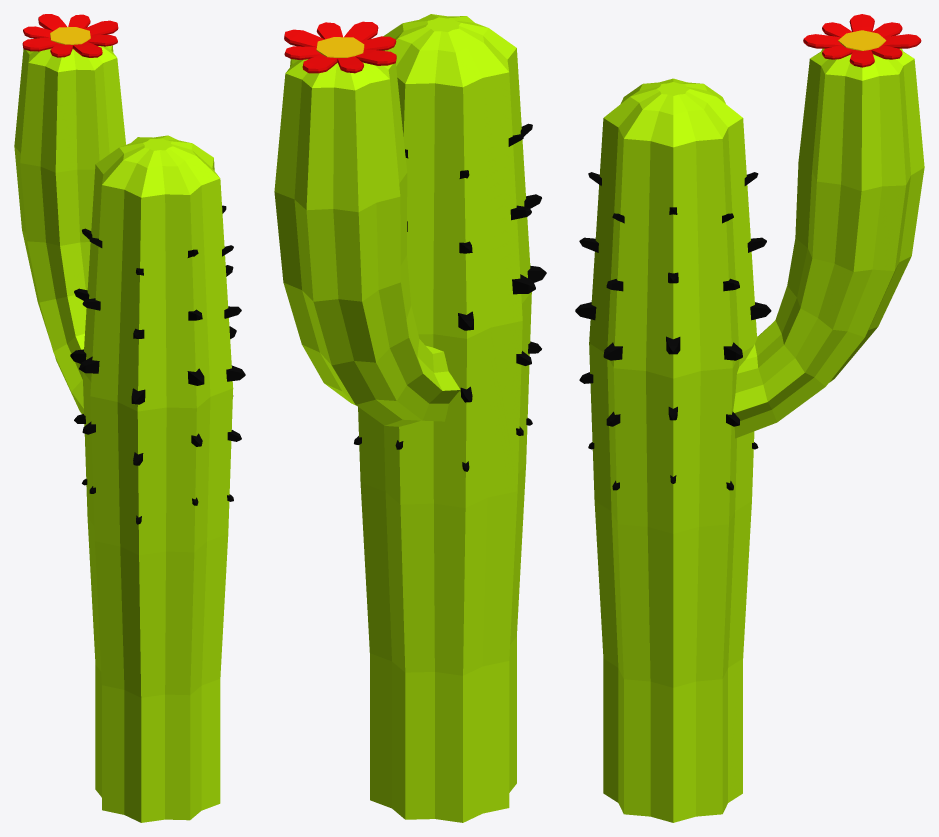
File: Cardon03_01Brazo_Flor_Roja.fbx
The picture shows the model from 3 angles, left to right: view 1: azimuth 30°, elevation 25°; view 2: azimuth 150°, elevation 25°; view 3: azimuth 270°, elevation 25°; orthographic projection. The views are drawn at different scales.
Parts seen in each view (by area): view 1: Cactus_Cuerpo, Espinas, Flor_Roja; view 2: Cactus_Cuerpo, Flor_Roja, Espinas; view 3: Cactus_Cuerpo, Flor_Roja, Espinas.
Boxes of the visible parts, x1,y1,x2,y2 form: Cactus_Cuerpo: [14, 45, 233, 822]; Espinas: [70, 205, 245, 524]; Flor_Roja: [22, 14, 118, 57]; Cactus_Cuerpo: [274, 14, 531, 822]; Flor_Roja: [284, 21, 396, 73]; Espinas: [354, 123, 546, 471]; Cactus_Cuerpo: [589, 48, 924, 822]; Flor_Roja: [803, 14, 921, 67]; Espinas: [575, 172, 771, 490].
Bounding box in the file's own units: 53.18 × 226 × 94.85.
